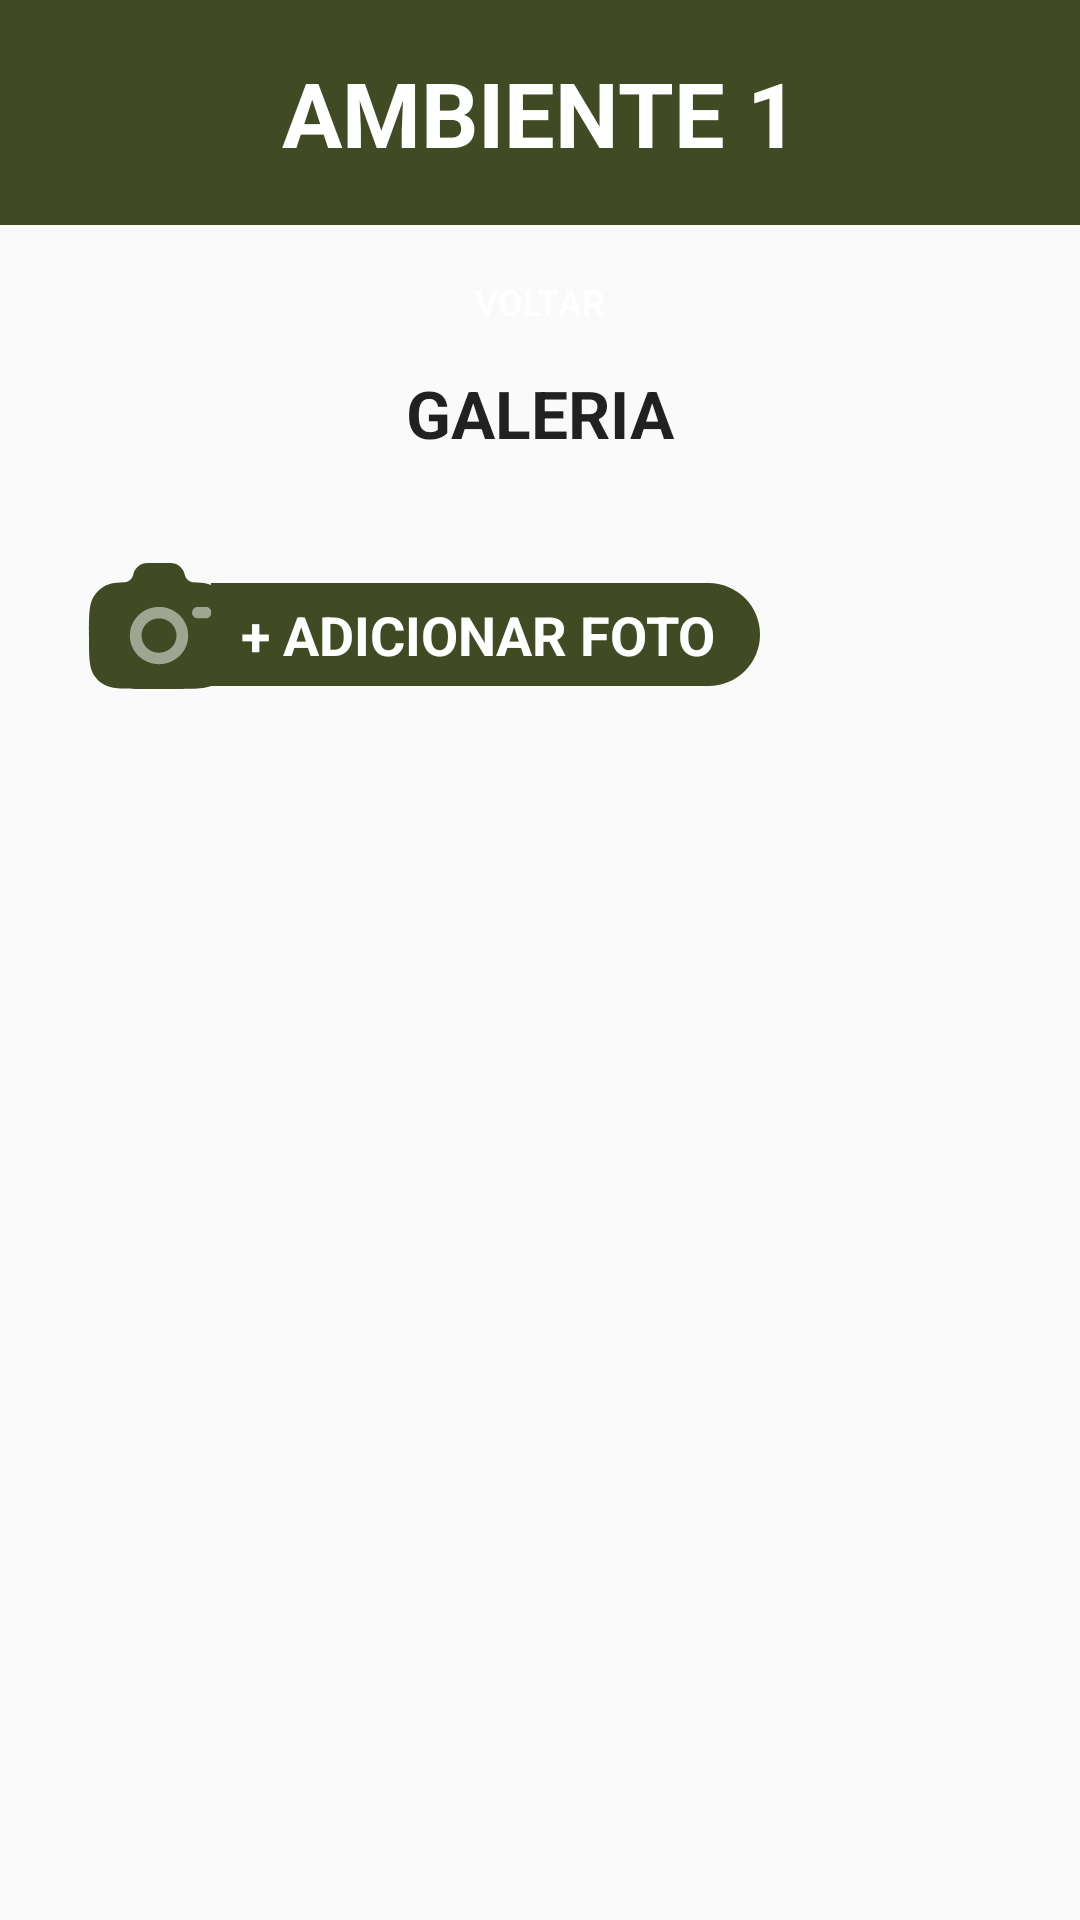

Screen size 1080px×1920px. Icon name, then its box in pixels as (x1, y1, x2, y2):
camera: (88, 563, 243, 689)
